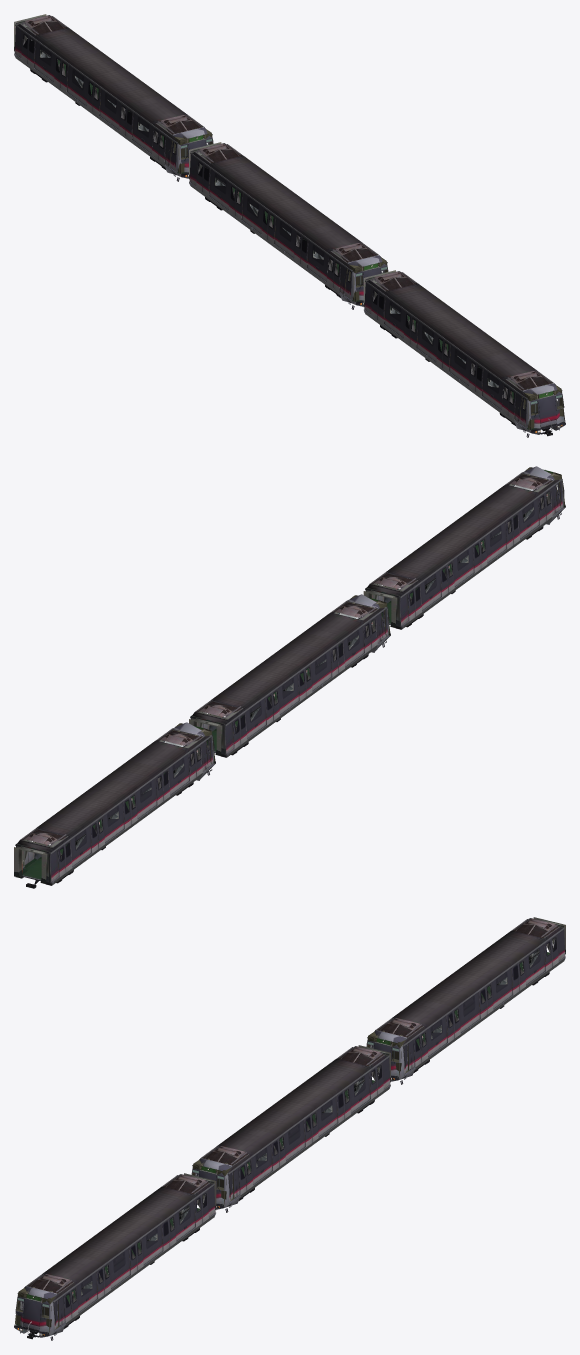
File: train_sf.glb
The picture shows the model from 3 angles, top to bottom: view 1: azimuth 30°, elevation 25°; view 2: azimuth 150°, elevation 25°; view 3: azimuth 330°, elevation 25°; orthographic projection.
Parts seen in each view (by area): view 1: Object_263 (×3), Object_261 (×3), Object_52 (×3), Object_38; view 2: Object_263 (×3), Object_261 (×3), Object_52 (×3), Object_266 (×3); view 3: Object_263 (×3), Object_261 (×3), Object_52 (×3), Object_38.
Boxes of the visible parts, left/top/right/bottom form: Object_263 (×3): left=14, top=15, right=565, bottom=434; Object_261 (×3): left=14, top=15, right=562, bottom=437; Object_52 (×3): left=21, top=31, right=515, bottom=420; Object_38: left=522, top=395, right=559, bottom=426; Object_263 (×3): left=16, top=466, right=565, bottom=883; Object_261 (×3): left=15, top=472, right=563, bottom=888; Object_52 (×3): left=24, top=488, right=552, bottom=877; Object_266 (×3): left=14, top=484, right=554, bottom=883; Object_263 (×3): left=14, top=918, right=565, bottom=1337; Object_261 (×3): left=17, top=918, right=565, bottom=1340; Object_52 (×3): left=64, top=934, right=558, bottom=1322; Object_38: left=20, top=1298, right=58, bottom=1329.
Size of the model in its own units: 2.64 by 3.19 by 62.1.
18 materials, 17 textured.
